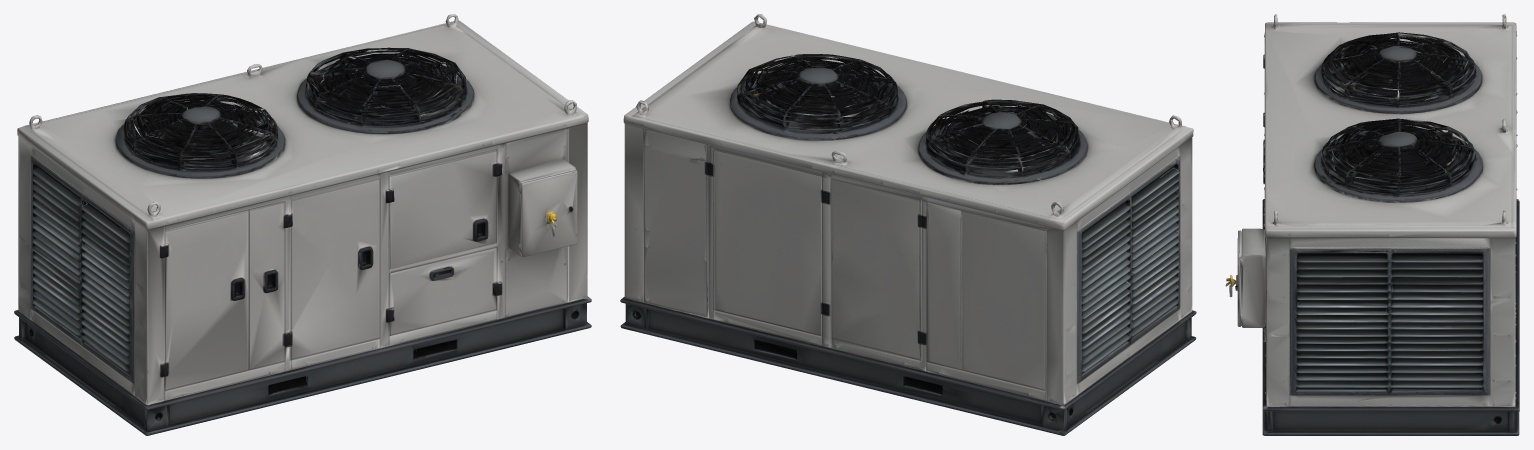
Rendered from hvac-a.glb.
3 renders of one model, left to right at view 1: azimuth 30°, elevation 25°; view 2: azimuth 150°, elevation 25°; view 3: azimuth 270°, elevation 25°, orthographic. The views are drawn at different scales.
Parts seen in each view (by area): view 1: node_0; view 2: node_0; view 3: node_0.
Boxes of the visible parts, bbox=[...] form: node_0: bbox=[14, 14, 591, 435]; node_0: bbox=[620, 14, 1196, 435]; node_0: bbox=[1225, 14, 1519, 435].
Bounding box in the file's own units: 0.9521 × 0.4918 × 0.5603.
1 material, 1 textured.
